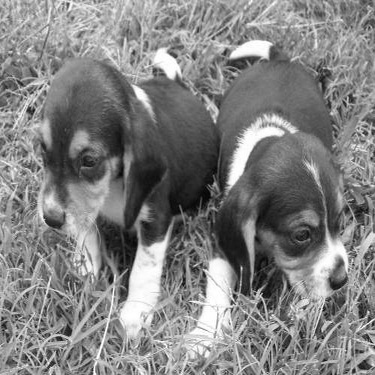dog: (32, 35, 233, 344), (186, 29, 355, 357)
